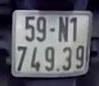1: (70, 16, 78, 43)
3: (60, 46, 73, 72)
4: (30, 46, 41, 71)
5: (23, 15, 36, 42)
7: (16, 44, 28, 70)
9: (36, 15, 48, 41), (45, 46, 55, 71), (75, 44, 85, 69)
N: (58, 15, 70, 43)
